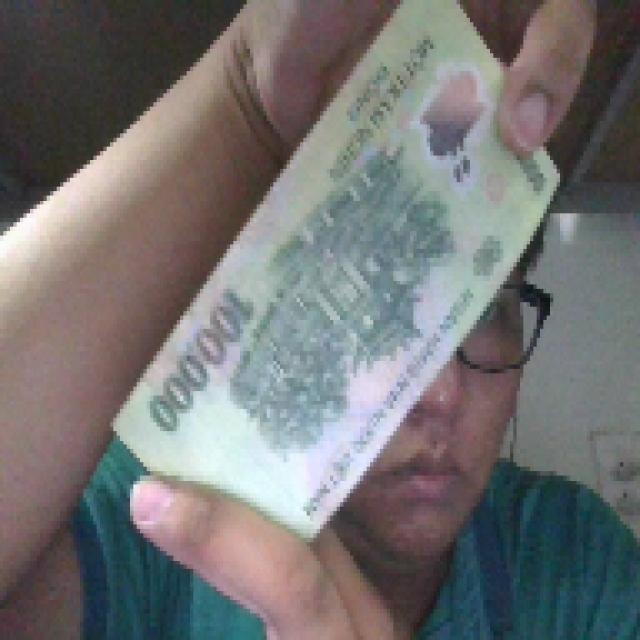100 000 VND: (104, 0, 564, 547)
